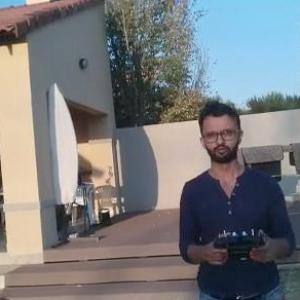follow: (172, 95, 300, 299)
